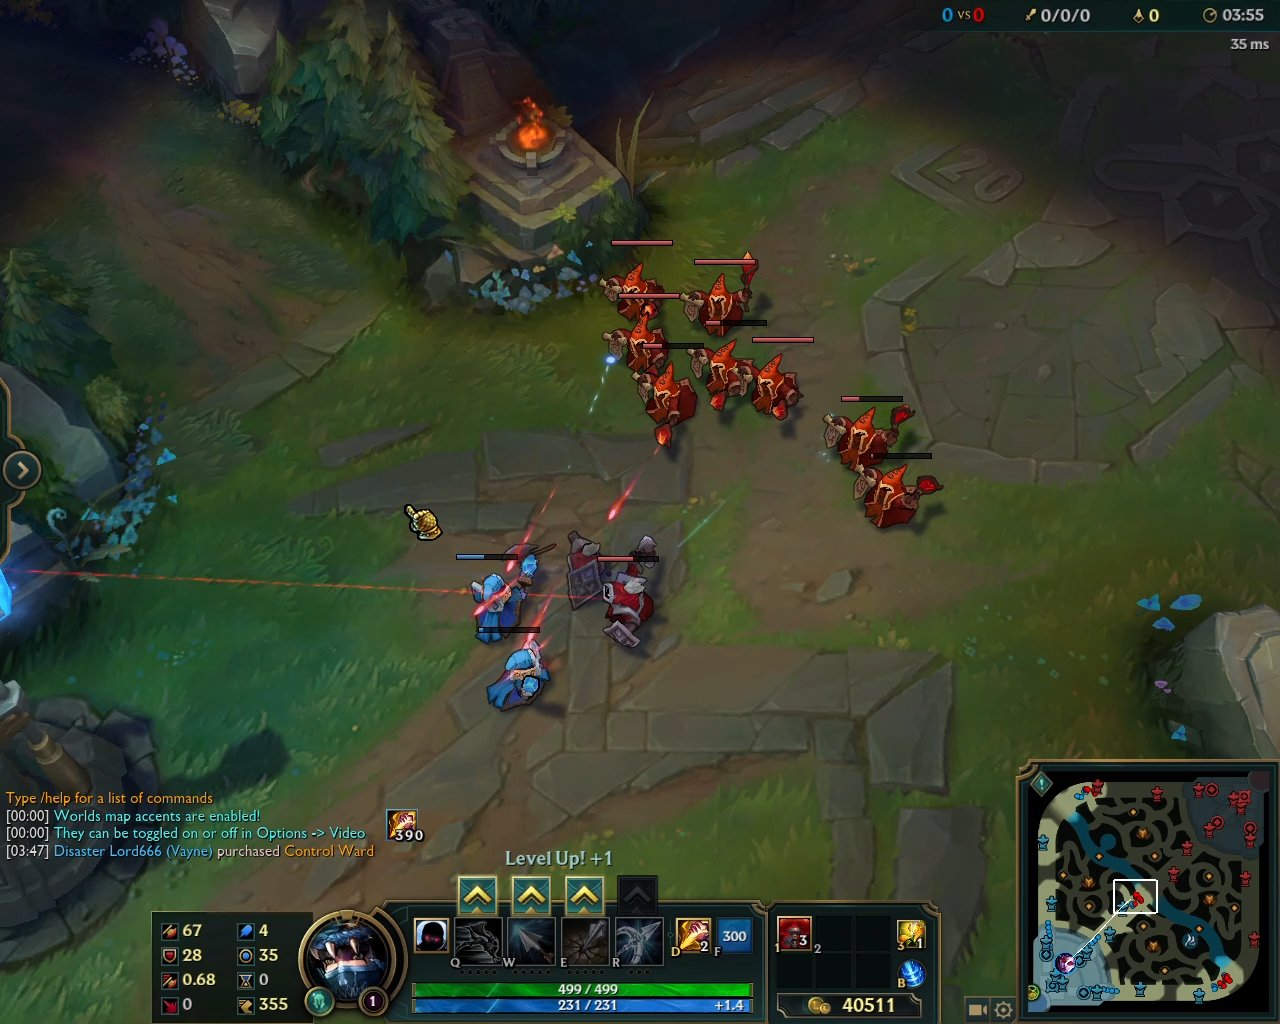EnemyMinion: (681, 318, 766, 415), (592, 535, 659, 656), (629, 343, 702, 453), (848, 453, 940, 536), (820, 395, 914, 474), (678, 252, 760, 341), (734, 336, 815, 423), (597, 239, 674, 327), (601, 294, 678, 377)
